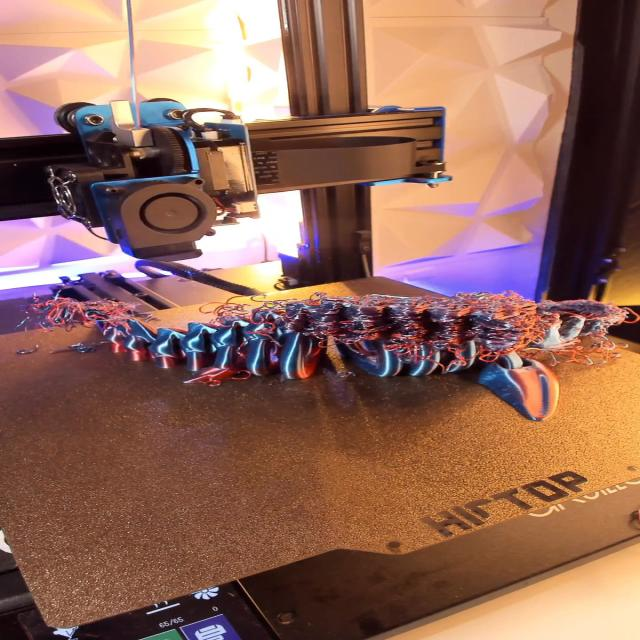spaghetti: (244, 292, 626, 363), (11, 276, 150, 330)
